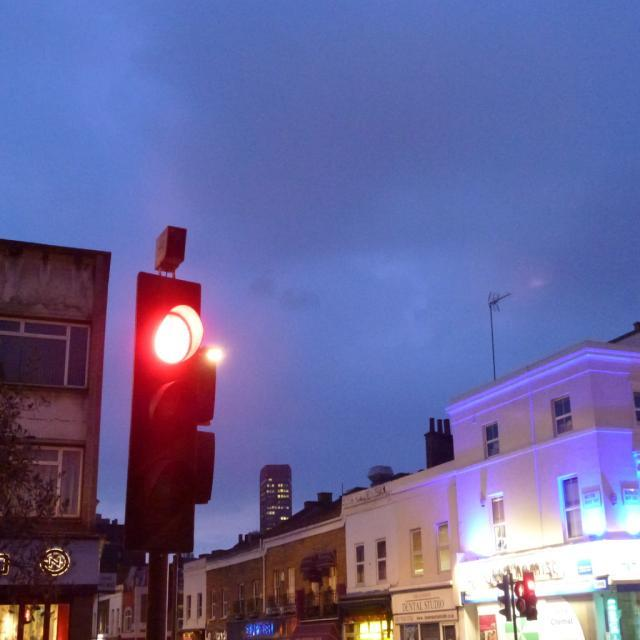traffic light: (129, 278, 203, 545)
